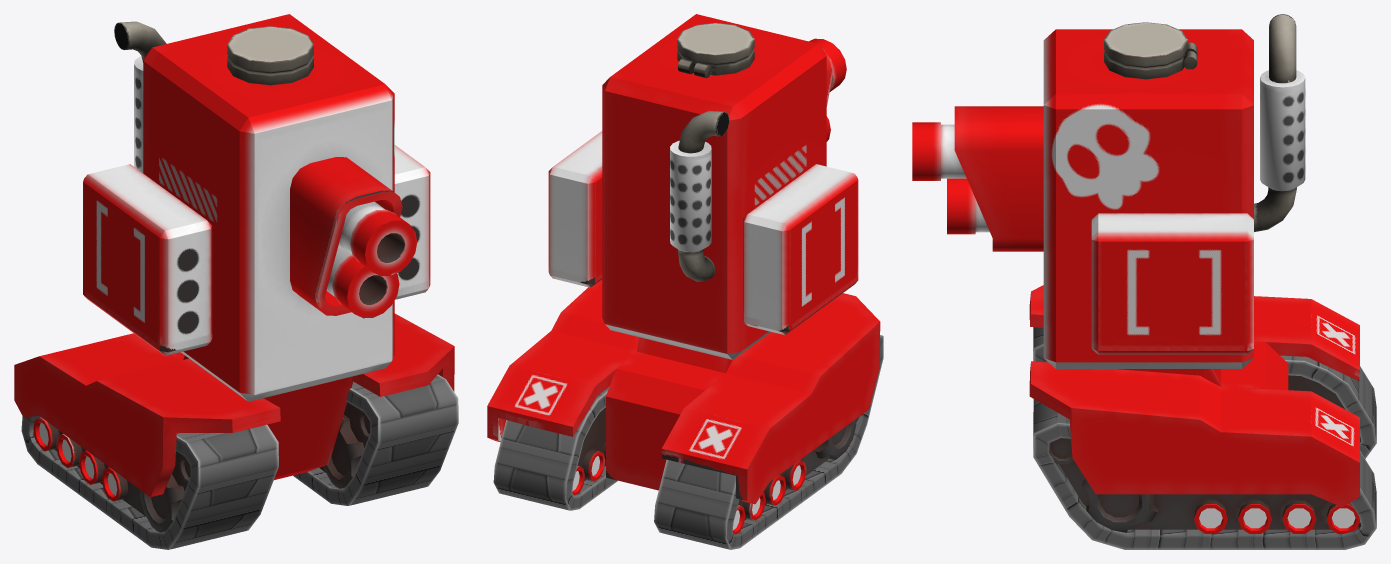
The model's file is Enemy_Tank_03.fbx.
The picture shows the model from 3 angles, left to right: view 1: azimuth 30°, elevation 25°; view 2: azimuth 150°, elevation 25°; view 3: azimuth 270°, elevation 25°; orthographic projection. The views are drawn at different scales.
Parts seen in each view (by area): view 1: Enemy_Tank_03 | Chassis, Enemy_Tank_03 | Missile_Launcher.R, Enemy_Tank_03 | Track.R, Enemy_Tank_03 | Track.L, Enemy_Tank_03 | Hatch, Enemy_Tank_03 | Barrel_01, Enemy_Tank_03 | Missile_Launcher.L, Enemy_Tank_03 | Barrel_02, Enemy_Tank_03 | Exhaust, Enemy_Tank_03 | Wheel_01.L, Enemy_Tank_03 | Wheel_01.R; view 2: Enemy_Tank_03 | Chassis, Enemy_Tank_03 | Missile_Launcher.R, Enemy_Tank_03 | Track.R, Enemy_Tank_03 | Track.L, Enemy_Tank_03 | Missile_Launcher.L, Enemy_Tank_03 | Exhaust, Enemy_Tank_03 | Hatch, Enemy_Tank_03 | Wheel_01.R, Enemy_Tank_03 | Barrel_01; view 3: Enemy_Tank_03 | Chassis, Enemy_Tank_03 | Missile_Launcher.L, Enemy_Tank_03 | Track.L, Enemy_Tank_03 | Exhaust, Enemy_Tank_03 | Hatch, Enemy_Tank_03 | Track.R, Enemy_Tank_03 | Barrel_01, Enemy_Tank_03 | Wheel_01.L, Enemy_Tank_03 | Barrel_02.
Boxes of the visible parts, box(x1,y1,x2,y2) form: Enemy_Tank_03 | Chassis: box(14, 14, 454, 497); Enemy_Tank_03 | Missile_Launcher.R: box(83, 164, 212, 355); Enemy_Tank_03 | Track.R: box(21, 415, 278, 549); Enemy_Tank_03 | Track.L: box(293, 374, 458, 505); Enemy_Tank_03 | Hatch: box(227, 26, 313, 85); Enemy_Tank_03 | Barrel_01: box(339, 201, 417, 275); Enemy_Tank_03 | Missile_Launcher.L: box(394, 145, 430, 299); Enemy_Tank_03 | Barrel_02: box(326, 245, 399, 318); Enemy_Tank_03 | Exhaust: box(114, 21, 166, 172); Enemy_Tank_03 | Wheel_01.L: box(323, 414, 364, 488); Enemy_Tank_03 | Wheel_01.R: box(140, 474, 184, 532); Enemy_Tank_03 | Chassis: box(487, 14, 880, 504); Enemy_Tank_03 | Missile_Launcher.R: box(743, 164, 858, 335); Enemy_Tank_03 | Track.R: box(654, 335, 883, 549); Enemy_Tank_03 | Track.L: box(493, 386, 617, 510); Enemy_Tank_03 | Missile_Launcher.L: box(548, 131, 602, 287); Enemy_Tank_03 | Exhaust: box(670, 111, 729, 281); Enemy_Tank_03 | Hatch: box(677, 23, 754, 78); Enemy_Tank_03 | Wheel_01.R: box(815, 419, 856, 459); Enemy_Tank_03 | Barrel_01: box(809, 38, 846, 91); Enemy_Tank_03 | Chassis: box(954, 29, 1359, 506); Enemy_Tank_03 | Missile_Launcher.L: box(1091, 213, 1253, 354); Enemy_Tank_03 | Track.L: box(1033, 399, 1376, 549); Enemy_Tank_03 | Exhaust: box(1254, 14, 1305, 231); Enemy_Tank_03 | Hatch: box(1104, 22, 1197, 79); Enemy_Tank_03 | Track.R: box(1033, 327, 1376, 458); Enemy_Tank_03 | Barrel_01: box(912, 122, 966, 180); Enemy_Tank_03 | Wheel_01.L: box(1082, 478, 1157, 532); Enemy_Tank_03 | Barrel_02: box(947, 178, 989, 234).
Bounding box in the file's own units: 1.51 × 2.3 × 2.15.
